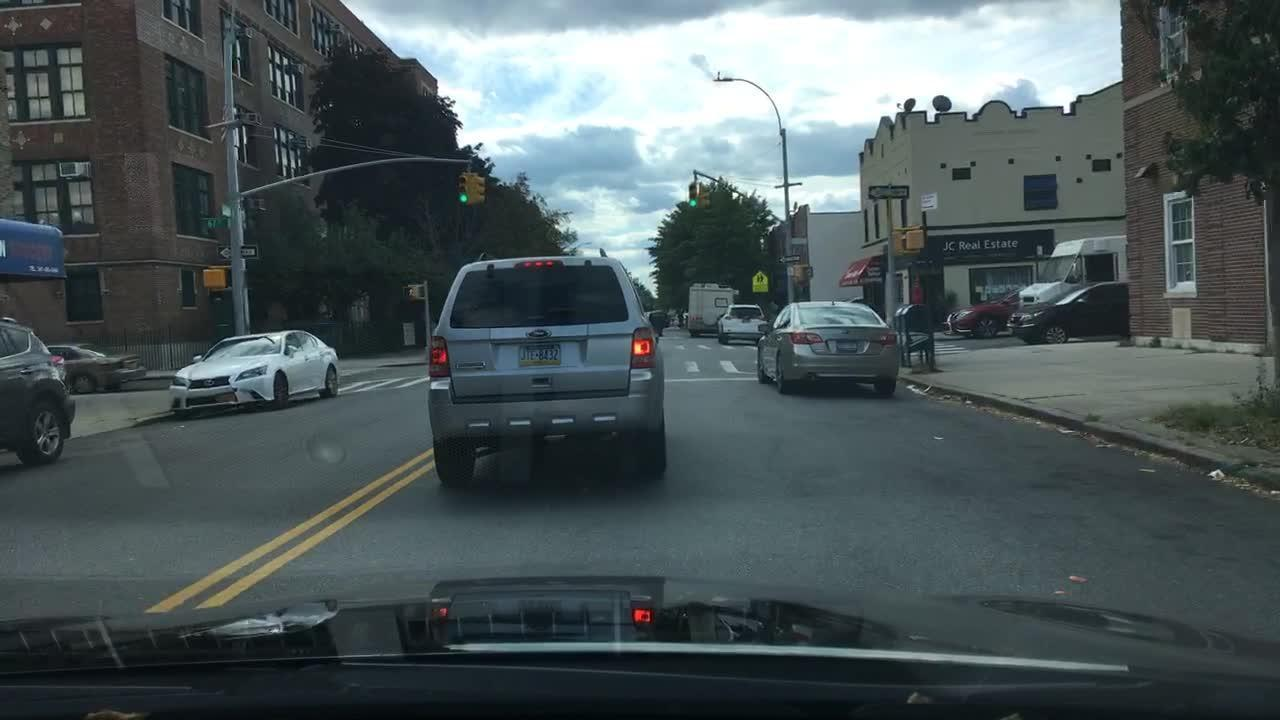ford: (522, 324, 558, 339)
